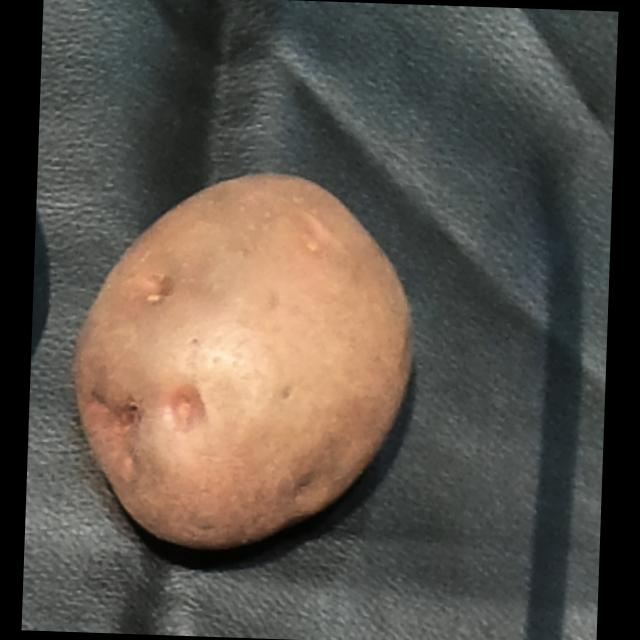Diseased-fungal potato: (61, 158, 434, 568)
